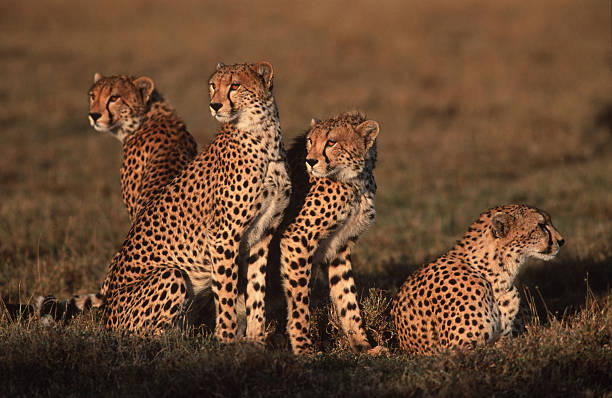cheetah: (76, 62, 172, 135), (298, 109, 382, 191), (205, 53, 286, 135)
